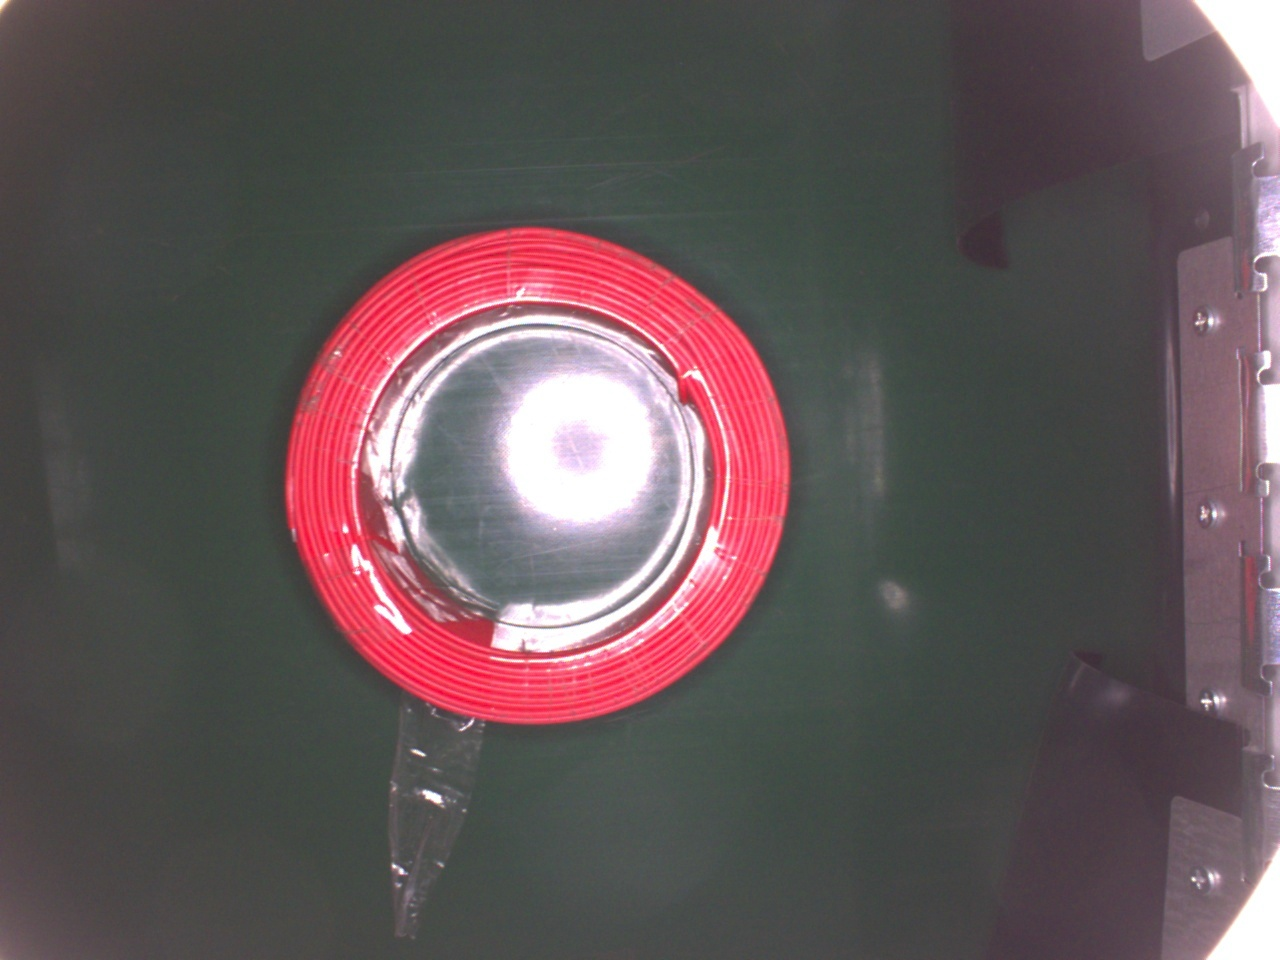red: (285, 224, 791, 726)
